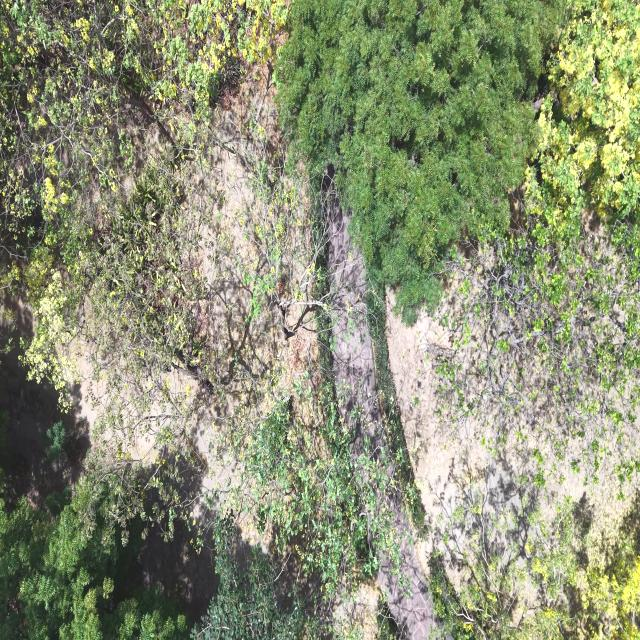DRY_AREA: (385, 3, 639, 623), (69, 61, 316, 516), (78, 68, 316, 522), (378, 293, 639, 639), (386, 280, 639, 586), (167, 79, 316, 521), (166, 67, 316, 454), (188, 71, 316, 520), (189, 67, 316, 505), (386, 292, 531, 588), (202, 69, 316, 417), (386, 293, 521, 584), (0, 296, 99, 507), (0, 296, 94, 510), (0, 295, 89, 506), (326, 197, 386, 453), (326, 197, 386, 440), (136, 519, 218, 617), (377, 536, 431, 639)
PATHWAYS: (327, 195, 385, 439)
VEGETATION_TREE: (0, 0, 639, 639), (1, 1, 389, 583), (278, 2, 639, 486), (1, 1, 304, 457), (1, 1, 285, 392), (433, 2, 639, 500), (433, 2, 639, 495), (438, 1, 639, 497), (438, 1, 639, 494), (277, 0, 556, 322), (219, 184, 414, 598), (92, 335, 401, 596), (1, 2, 207, 388), (230, 255, 418, 598), (436, 221, 639, 497), (0, 481, 320, 639), (233, 380, 398, 597), (429, 503, 639, 639), (0, 487, 187, 639), (525, 1, 639, 245), (429, 501, 589, 639), (366, 290, 429, 539), (190, 521, 321, 639), (568, 510, 639, 639), (375, 600, 401, 639), (46, 420, 68, 461)
